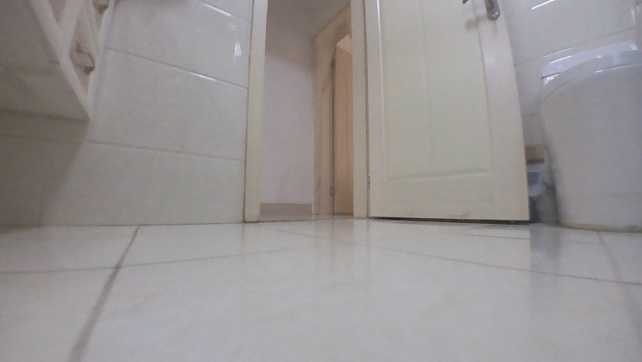door_anno: (350, 0, 531, 222)
door_sill: (251, 212, 354, 223)
toilet: (537, 42, 639, 232)
